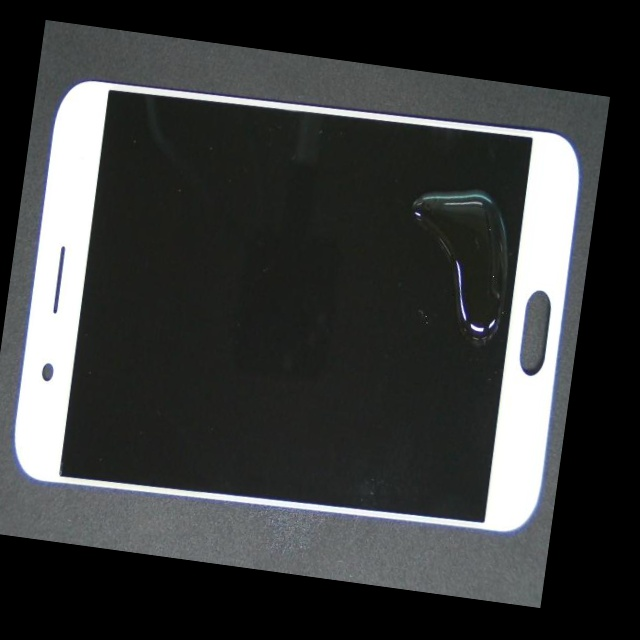oil: (225, 102, 603, 285)
